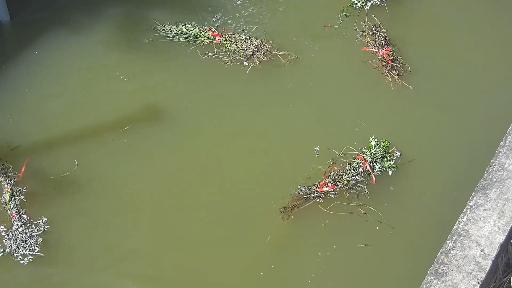twig: (279, 134, 409, 224), (142, 12, 315, 75), (356, 21, 416, 98), (0, 155, 39, 269), (349, 0, 393, 12)
